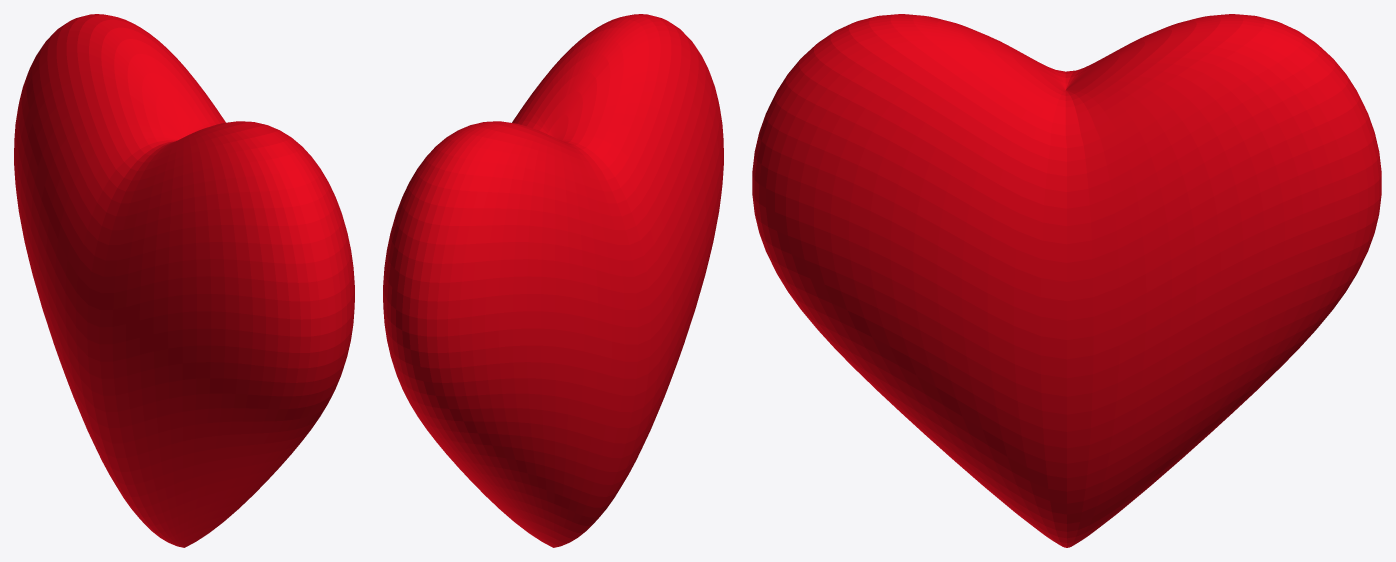
File: asset.glb
The picture shows the model from 3 angles, left to right: view 1: azimuth 30°, elevation 25°; view 2: azimuth 150°, elevation 25°; view 3: azimuth 270°, elevation 25°; orthographic projection. The views are drawn at different scales.
Visible parts, largest first — view 1: Heart; view 2: Heart; view 3: Heart.
Boxes of the visible parts, x1,y1,x2,y2 form: Heart: (14,14,354,547); Heart: (383,14,723,547); Heart: (752,14,1381,547).
Bounding box in the file's own units: 2 × 4.62 × 4.99.
